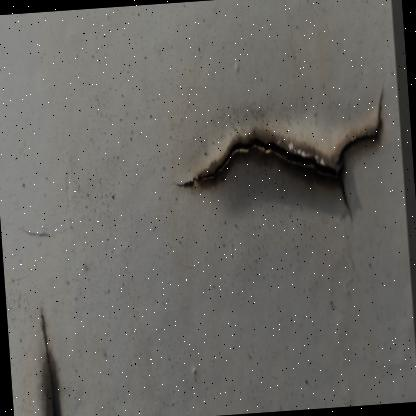Crack: (164, 62, 399, 245), (22, 291, 75, 415)
